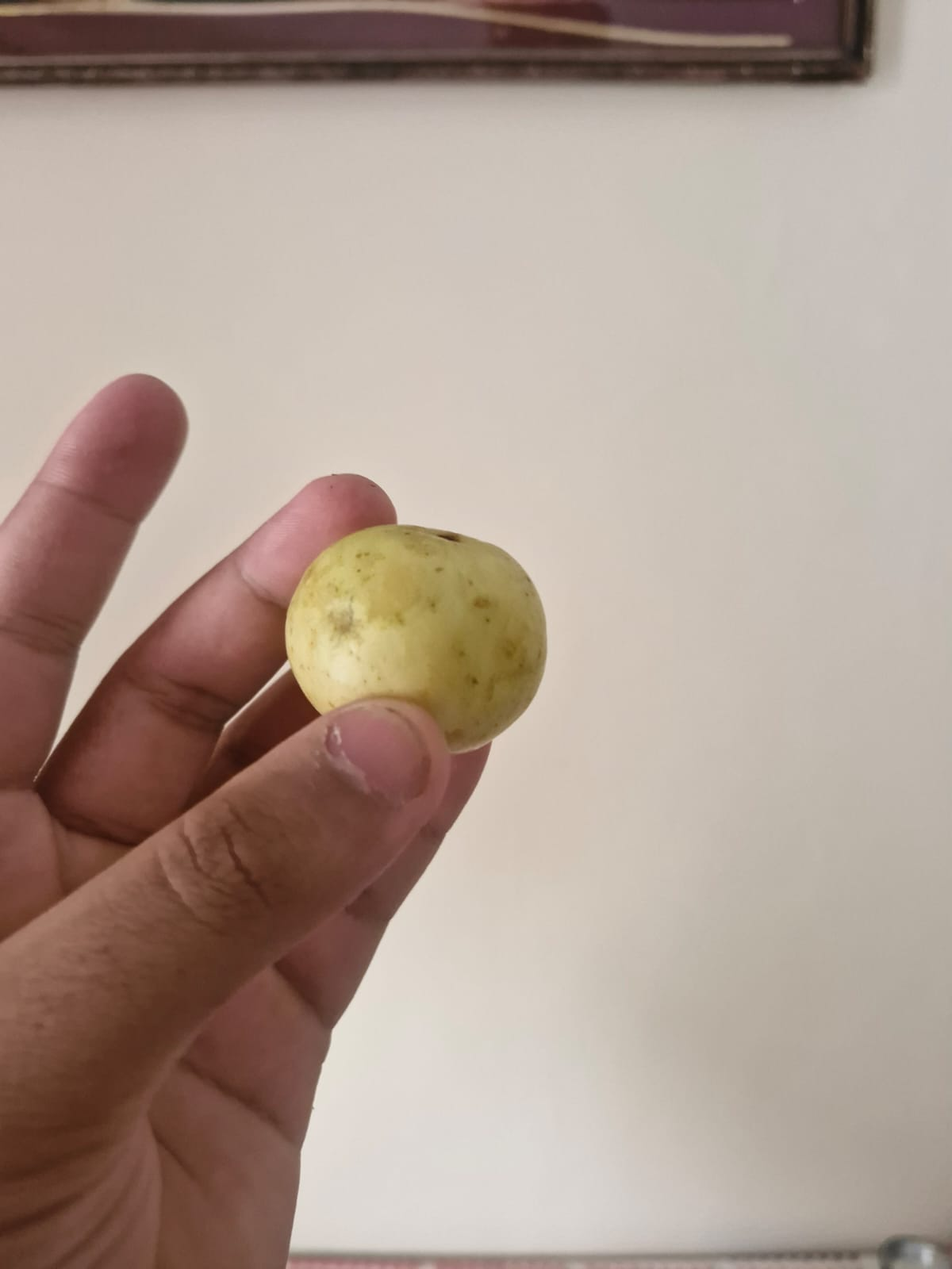guava: (75, 61, 713, 1170)
